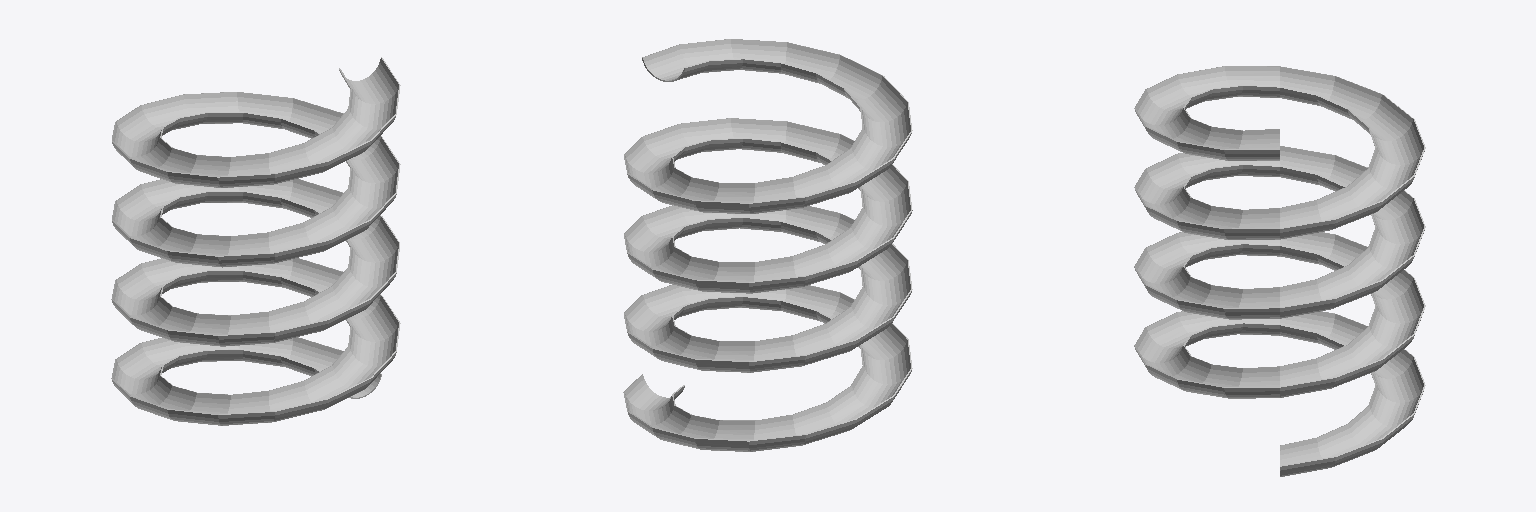
The model's file is espiralvol.obj.
The picture shows the model from 3 angles: view 1: azimuth 30°, elevation 25°; view 2: azimuth 150°, elevation 25°; view 3: azimuth 270°, elevation 25°; orthographic projection.
Parts seen in each view (by area): view 1: Círculo; view 2: Círculo; view 3: Círculo.
Boxes of the visible parts, x1,y1,x2,y2 form: Círculo: [111, 57, 400, 425]; Círculo: [623, 39, 912, 451]; Círculo: [1134, 66, 1425, 476].
Size of the model in its own units: 11.35 by 14.42 by 11.35.